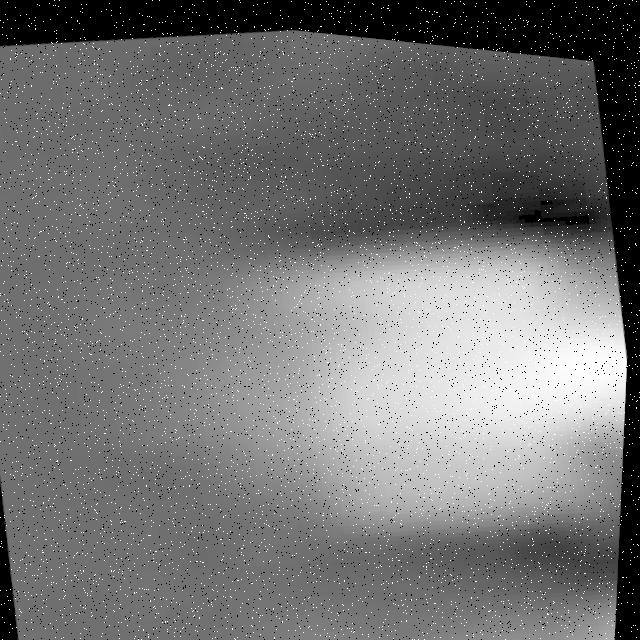person: (109, 153, 636, 588), (254, 548, 623, 640)
